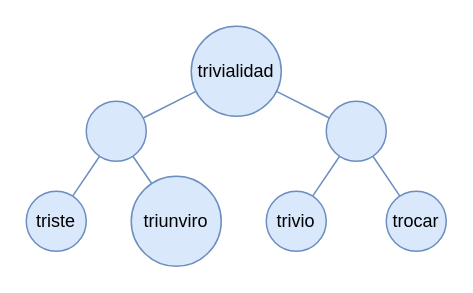
The diagram is 473 pixels wide and 293 high, and some of its shapes have lost their labels. Here are the shapes that lost their labels. From the top down, the centre of each, then its label:
pixel 115 130: tristeza
pixel 355 130: triza
